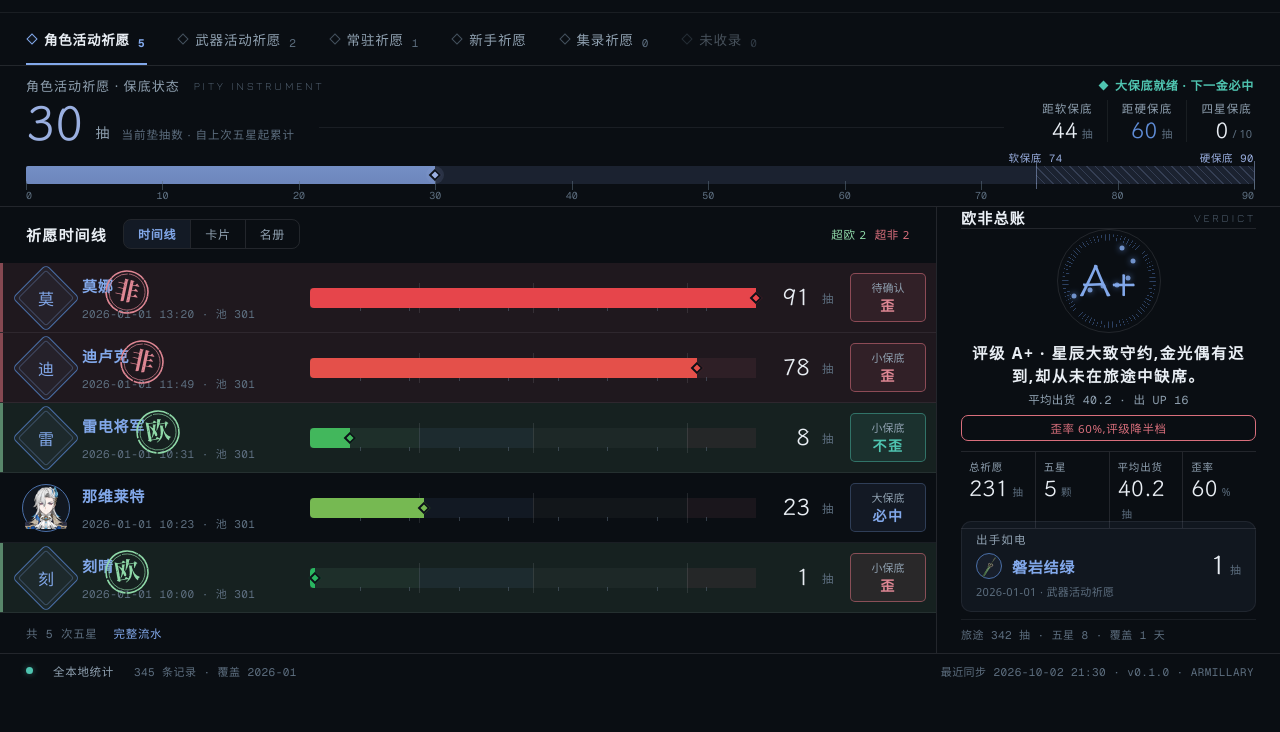
Test case: BoardView · 名册切换与流水抽屉 › 新手祈愿页签:保底仪整带隐藏(pity null),时间线仍出;未收录页签走兜底列表
What coordinates should you click on to do the following:
click the button "新手祈愿"
I would click on:
 (490, 39)
Its box is [451,13,529,65].
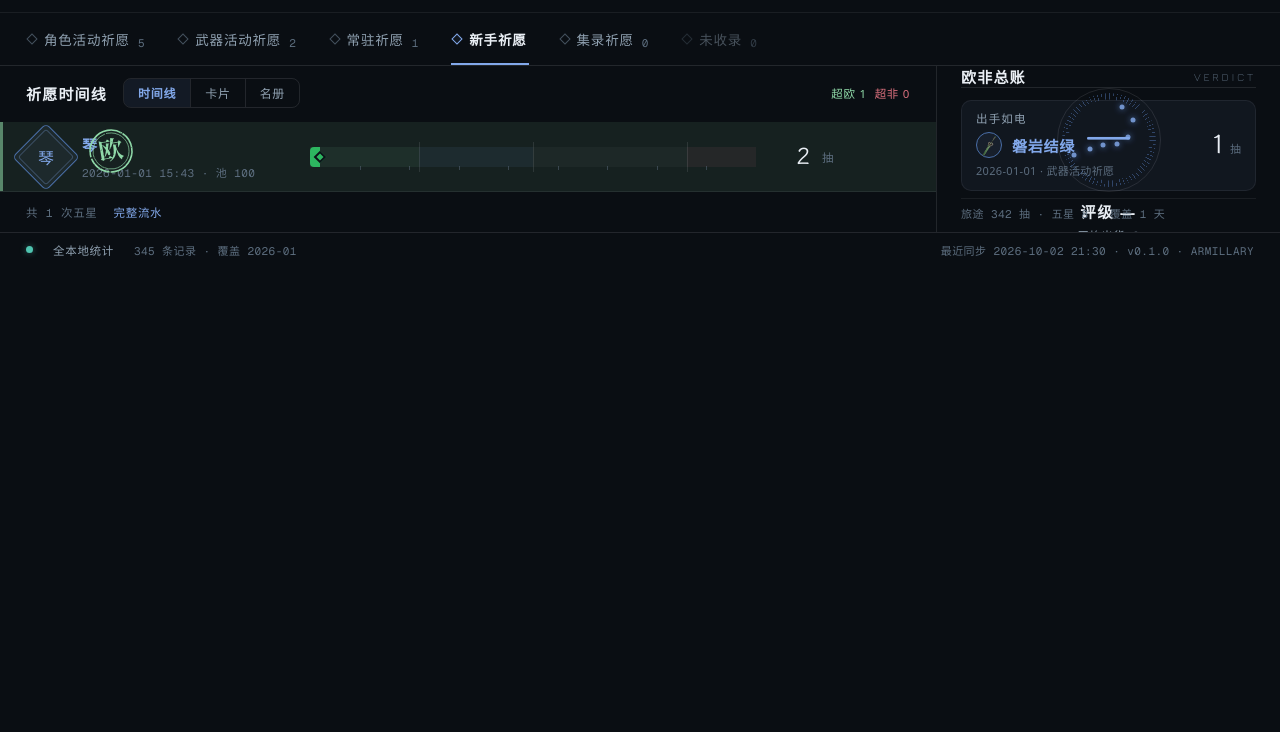
Result: the number of list items with class "wish-row" is 1 at [0,122,936,192]
What coordinates should you click on to do the following:
click the button "未收录 0"
I would click on:
 (720, 39)
Its box is [681,13,760,65].
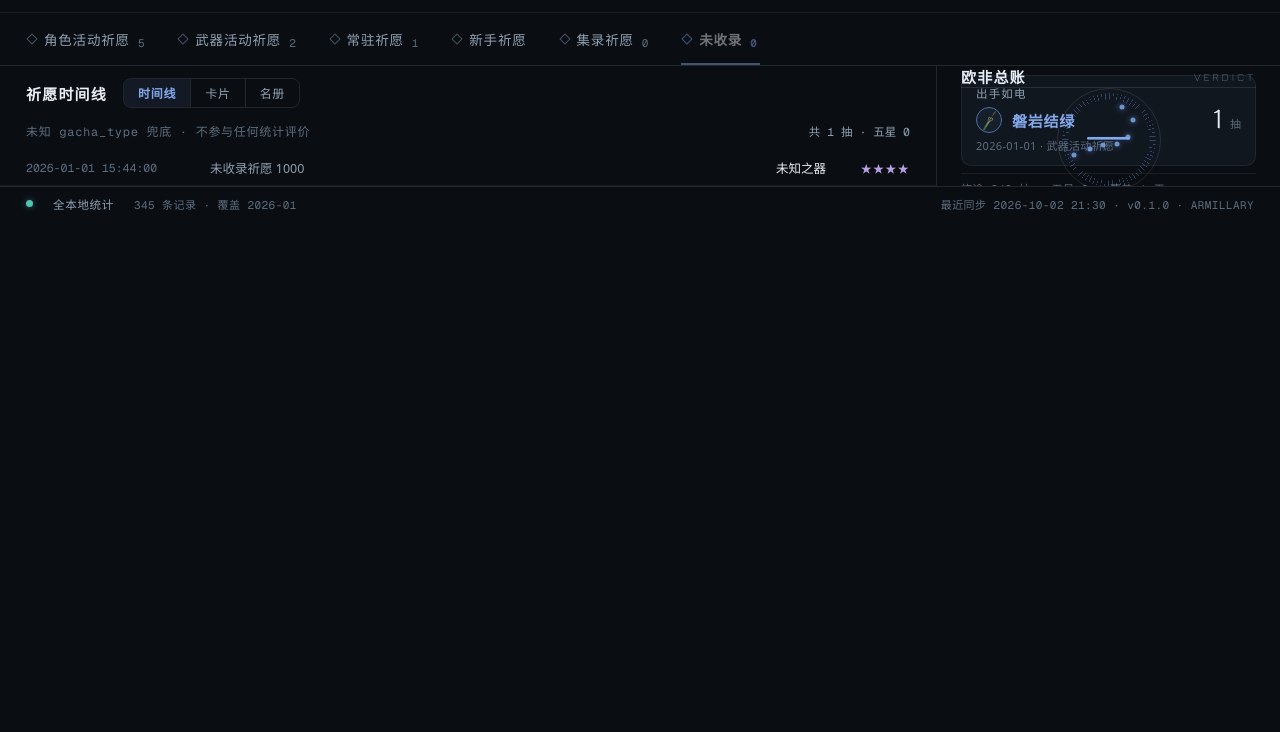
Result: the element with class "unknown-list" is shown at [0,108,936,186]
Result: the text "未收录祈愿 1000" is shown at [210,160,304,177]
